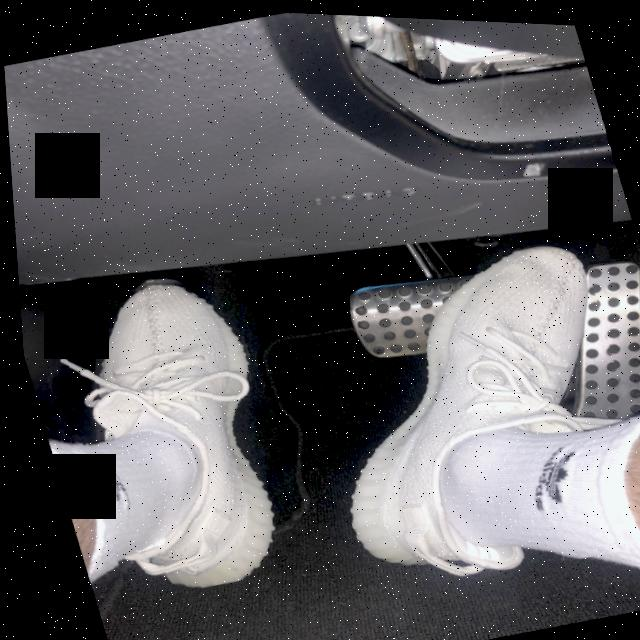shoe: (274, 215, 640, 605), (33, 253, 312, 607)
